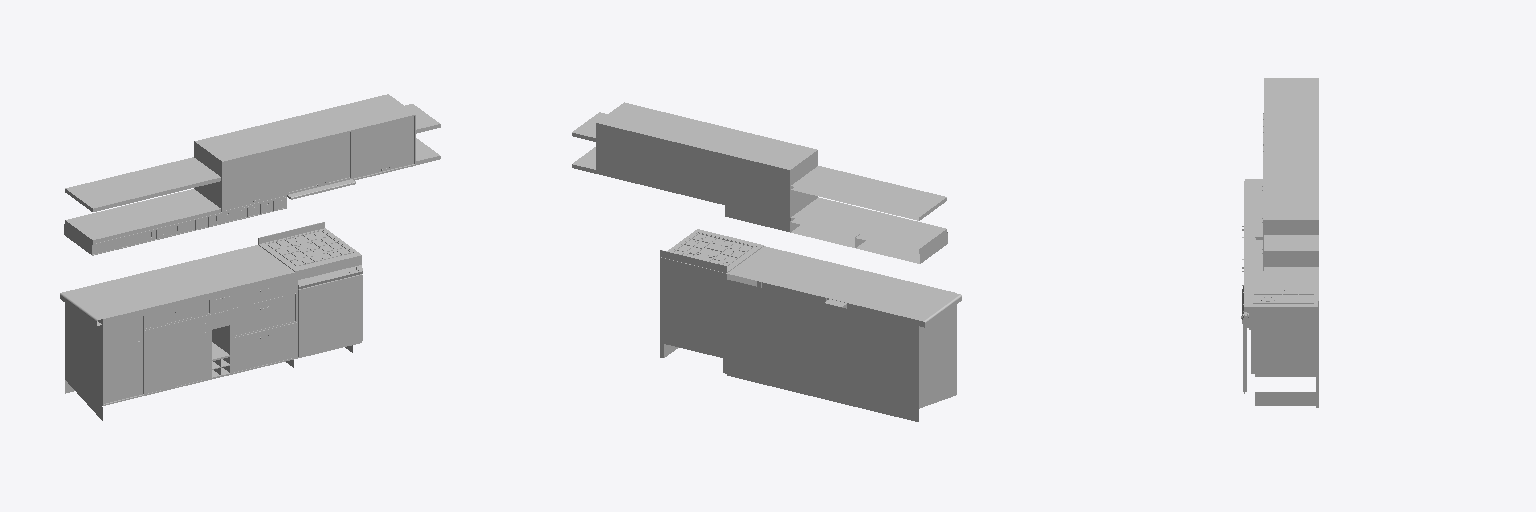
The model's file is model_cabinet.obj.
The picture shows the model from 3 angles: view 1: azimuth 30°, elevation 25°; view 2: azimuth 150°, elevation 25°; view 3: azimuth 270°, elevation 25°; orthographic projection.
Bounding box in the file's own units: 3.28 × 1.96 × 0.6337.